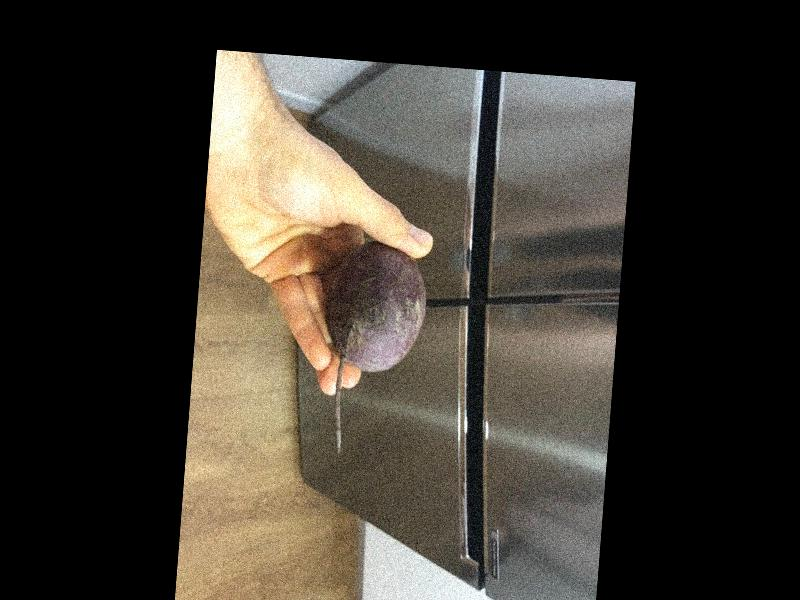Beet: (316, 239, 431, 460)
